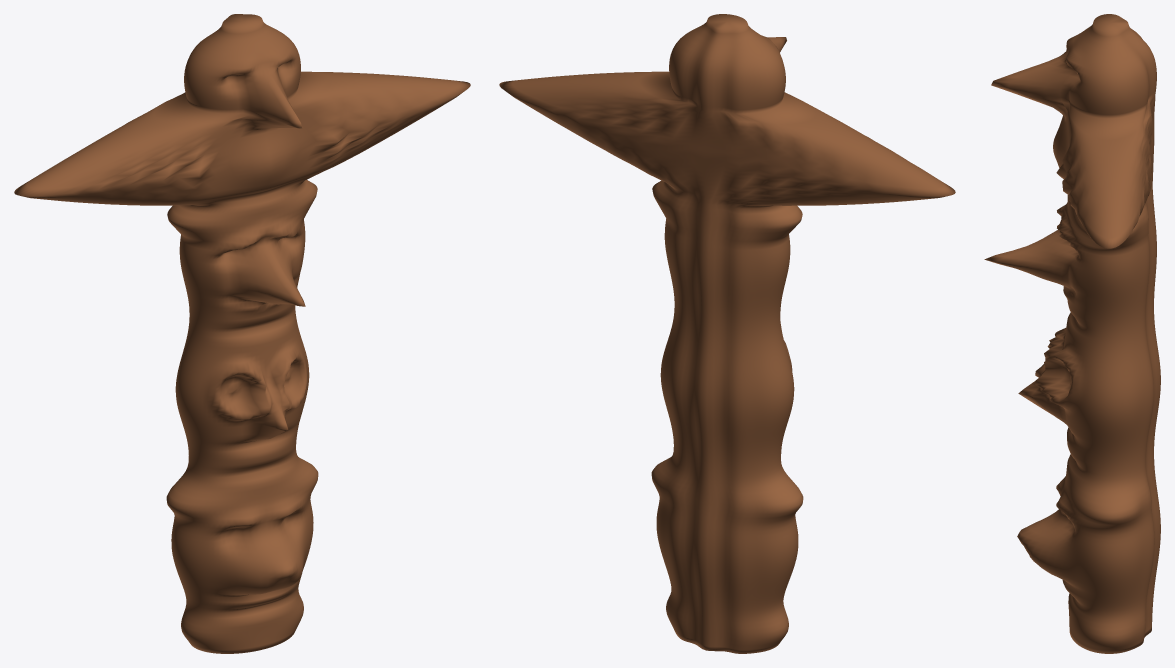
File: NEW_RECOVERY_126_LOD1.fbx
3 renders of one model, left to right at view 1: azimuth 30°, elevation 25°; view 2: azimuth 150°, elevation 25°; view 3: azimuth 270°, elevation 25°, orthographic.
Visible parts, largest first — view 1: Original_stacked_animal_pole; view 2: Original_stacked_animal_pole; view 3: Original_stacked_animal_pole.
Part boxes in pixels (box(x1,y1,x2,y2)): Original_stacked_animal_pole: box(14, 14, 470, 653); Original_stacked_animal_pole: box(499, 14, 955, 653); Original_stacked_animal_pole: box(984, 14, 1160, 653).
Size of the model in its own units: 395 by 135 by 510.
